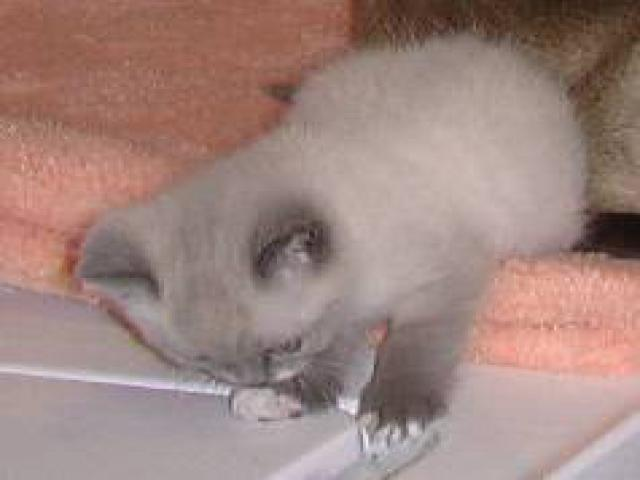cat: (79, 32, 595, 449)
